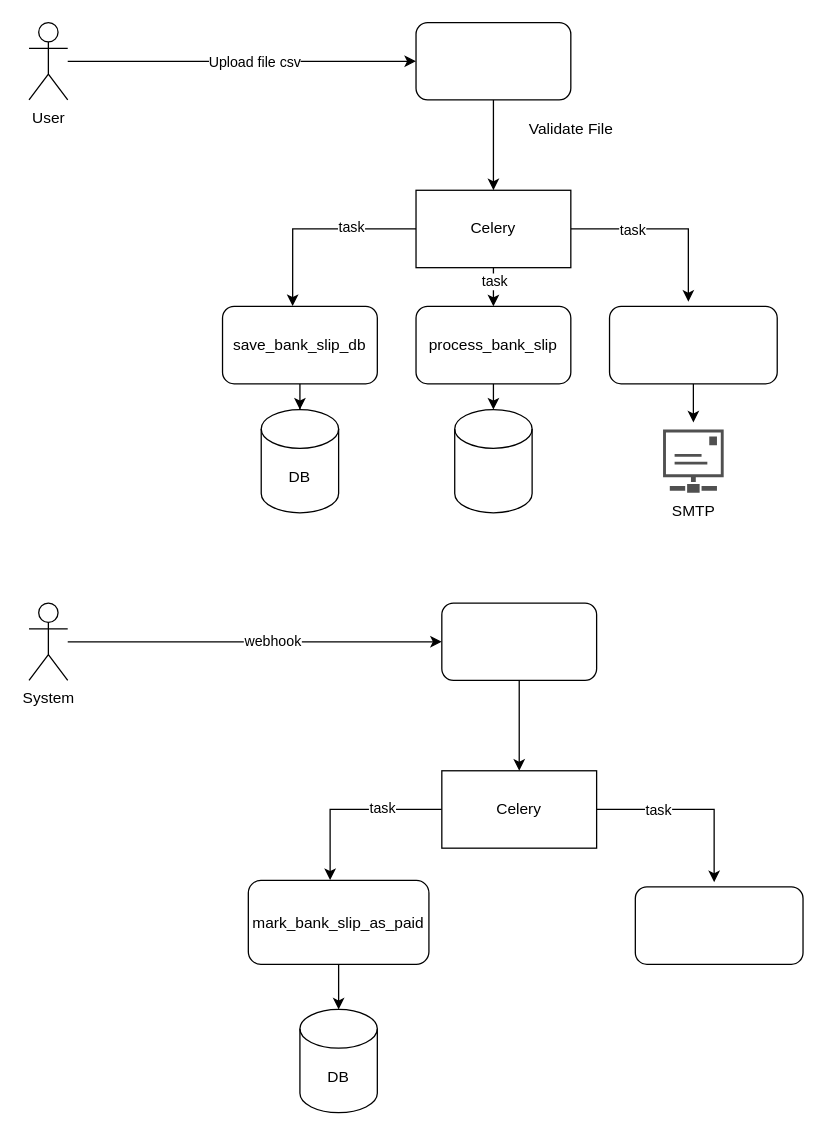
Some shapes in this 826 by 1135 pixel diagram are drawn without their labels. Here are the shapes that lost their labels. From the top down, the centre of each, then its label:
At point 493,60: "/v1/upload".
At point 692,344: "send_email_notification".
At point 492,460: "File Storage".
At point 519,641: "/v1/webhook".
At point 718,925: "settle_current_account".
